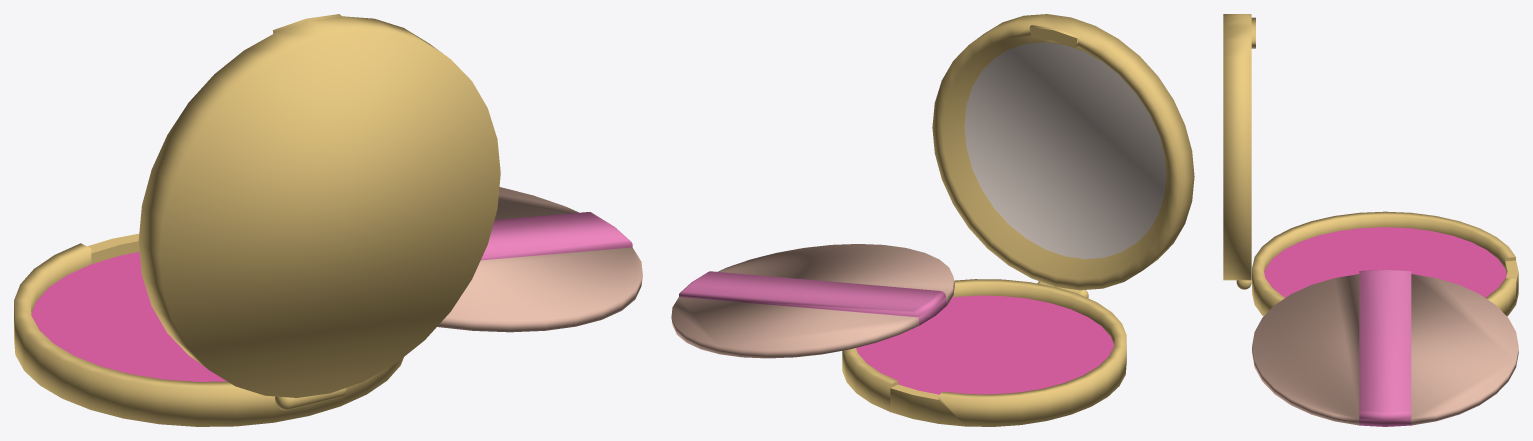
Rendered from Compact_Makeup_Mirror(V1).fbx.
3 renders of one model, left to right at view 1: azimuth 30°, elevation 25°; view 2: azimuth 150°, elevation 25°; view 3: azimuth 270°, elevation 25°, orthographic. The views are drawn at different scales.
Visible parts, largest first — view 1: Compact_Mirror_Body; view 2: Compact_Mirror_Body; view 3: Compact_Mirror_Body.
Boxes of the visible parts, x1,y1,x2,y2 form: Compact_Mirror_Body: (14,14,642,426); Compact_Mirror_Body: (671,14,1194,426); Compact_Mirror_Body: (1223,14,1518,426).
Bounding box in the file's own units: 338 × 221 × 222.
